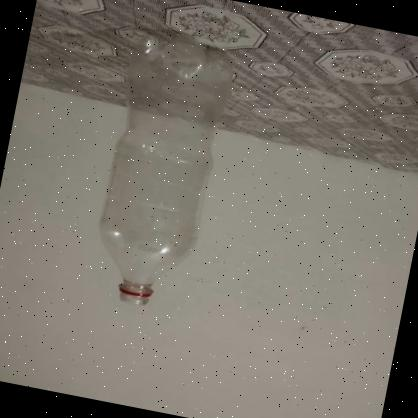bottle: (84, 24, 238, 313)
